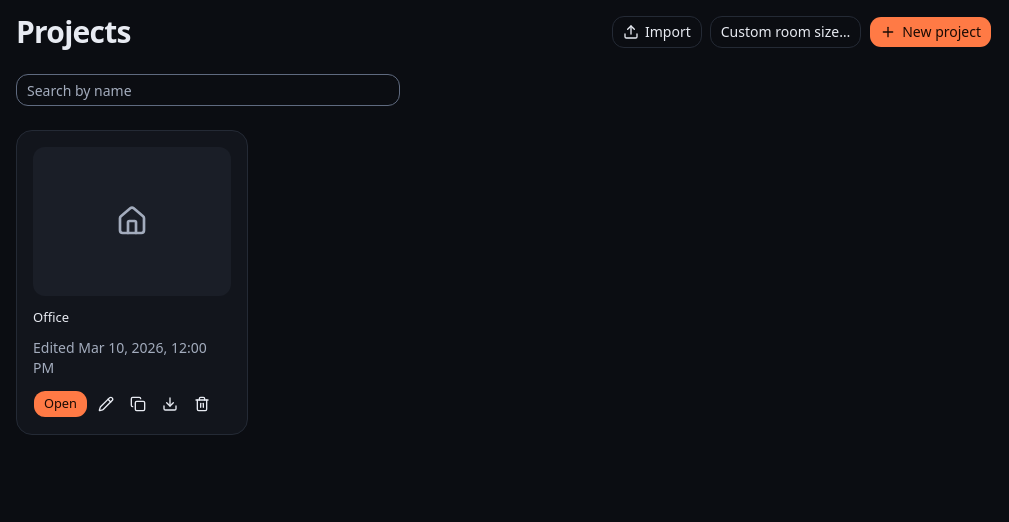
ProjectsScreen: export › says so when the export fails, and keeps working
Click the button named "Export Office" at point(170, 404), box [156,390,184,418]
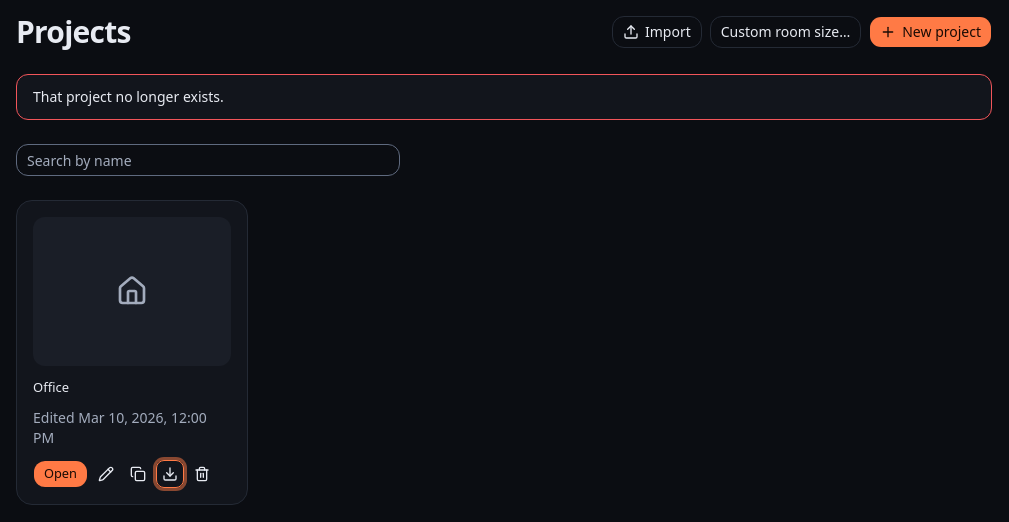
Expected: the message reads "That project no longer exists.", [33,87,224,106]
